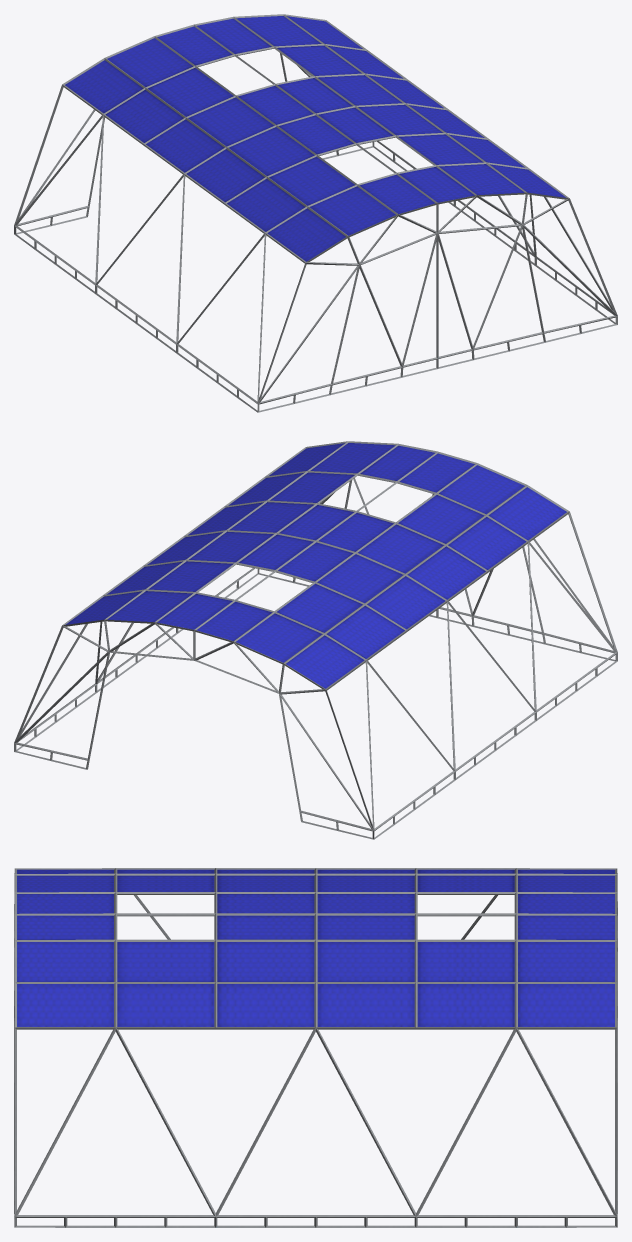
Rendered from tent-canopy---rectangular-256b7c.glb.
3 renders of one model, top to bottom at view 1: azimuth 30°, elevation 25°; view 2: azimuth 150°, elevation 25°; view 3: azimuth 270°, elevation 25°, orthographic. The views are drawn at different scales.
Visible parts, largest first — view 1: PropMesh; view 2: PropMesh; view 3: PropMesh.
Part boxes in pixels (x1,y1,x2,y2): PropMesh: (14, 14, 617, 412); PropMesh: (14, 441, 617, 839); PropMesh: (14, 868, 617, 1227).
Bounding box in the file's own units: 3.18 × 1.4 × 3.73.
1 material, 1 textured.
